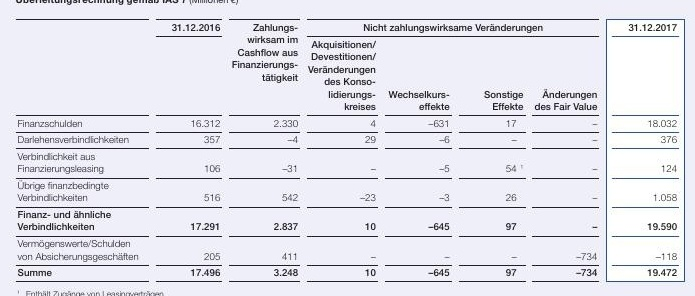table: (0, 0, 695, 296)
